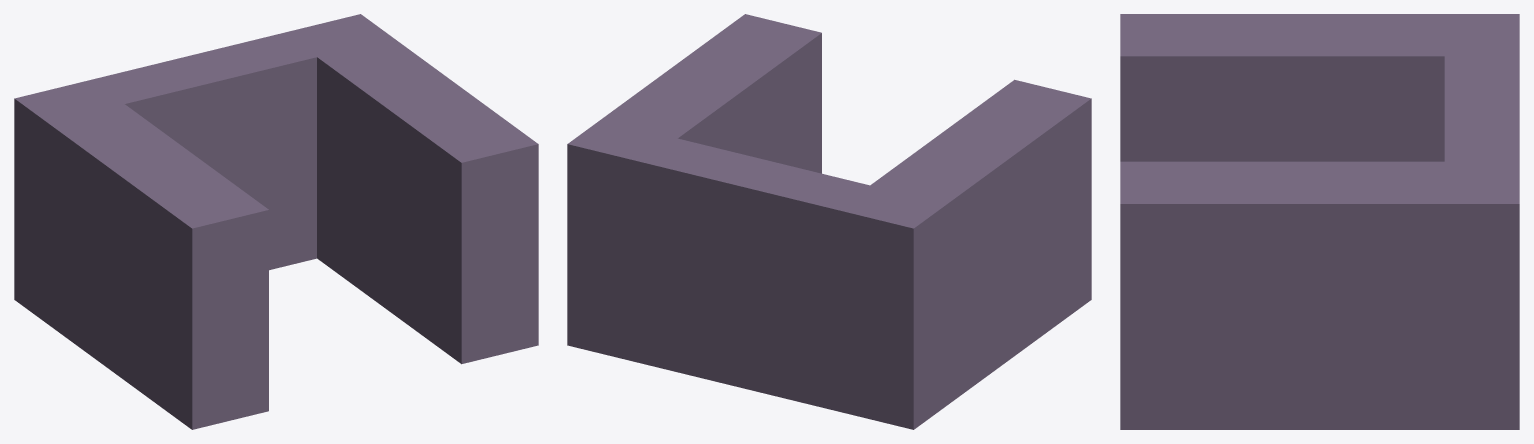
The model's file is Floors-3.obj.
The picture shows the model from 3 angles, left to right: view 1: azimuth 30°, elevation 25°; view 2: azimuth 150°, elevation 25°; view 3: azimuth 270°, elevation 25°; orthographic projection. The views are drawn at different scales.
Bounding box in the file's own units: 1.8 × 1 × 1.6.
